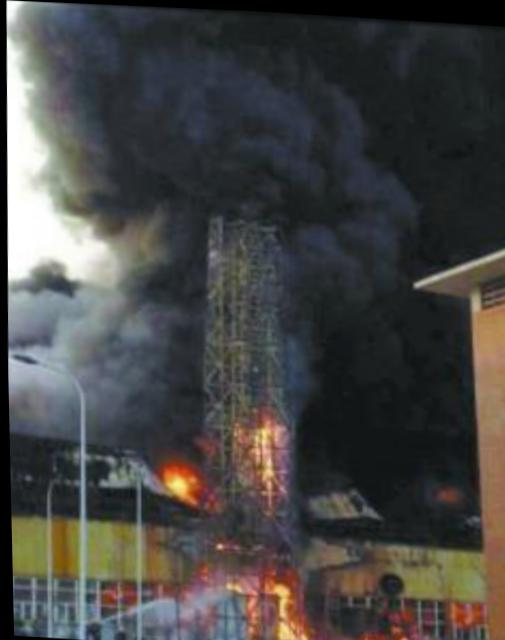fire: (255, 415, 291, 491), (276, 573, 305, 640), (163, 461, 203, 498), (450, 594, 488, 619), (352, 631, 406, 639)
